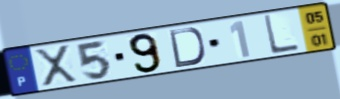1: (228, 19, 252, 59)
5: (74, 38, 114, 81)
9: (126, 32, 164, 74)
D: (167, 26, 207, 69)
L: (261, 13, 301, 57)
X: (31, 43, 80, 89)
